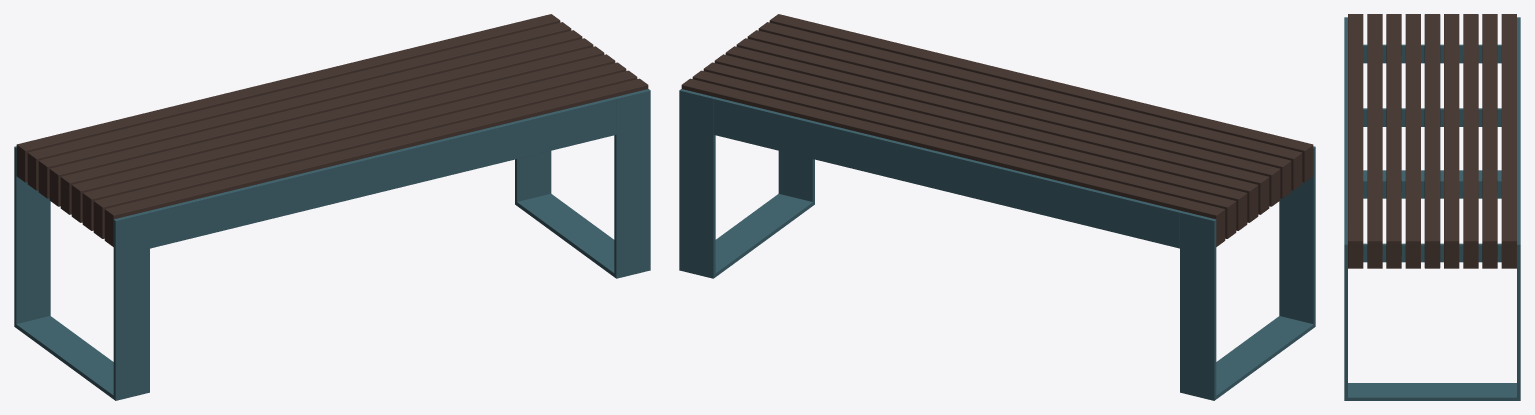
3 renders of one model, left to right at view 1: azimuth 30°, elevation 25°; view 2: azimuth 150°, elevation 25°; view 3: azimuth 270°, elevation 25°, orthographic. The views are drawn at different scales.
Parts seen in each view (by area): view 1: K4_1400; view 2: K4_1400; view 3: K4_1400.
Part boxes in pixels (x1,y1,x2,y2): K4_1400: (14, 14, 650, 400); K4_1400: (679, 14, 1315, 400); K4_1400: (1344, 14, 1520, 400).
Bounding box in the file's own units: 1.4 × 0.4599 × 0.4599.
